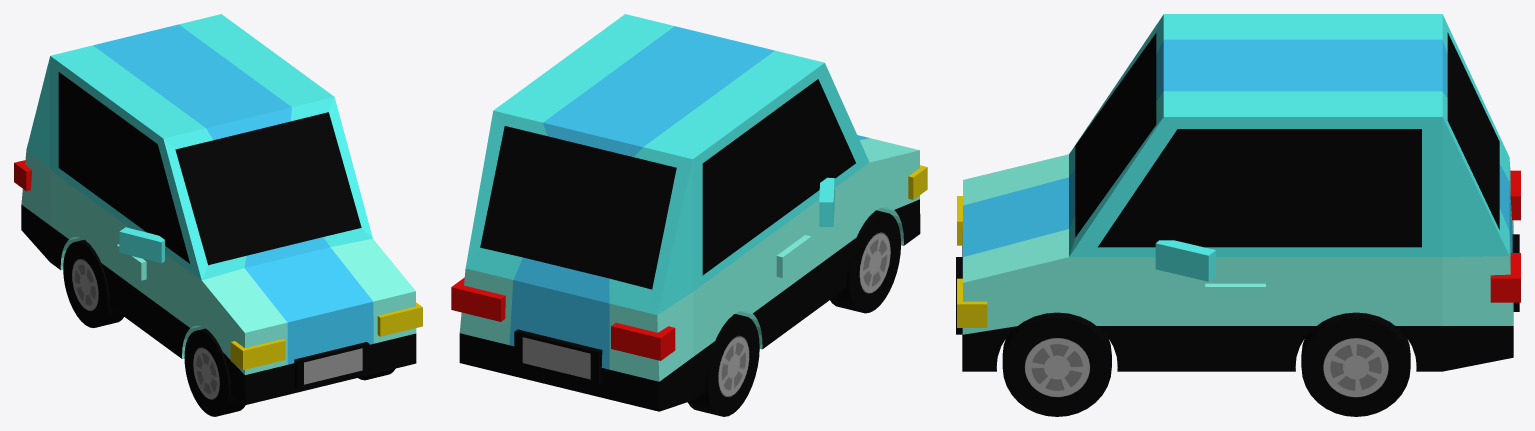
The model's file is Mobil_5_Biru_D.fbx.
3 views of the same model, side by side, from view 1: azimuth 30°, elevation 25°; view 2: azimuth 150°, elevation 25°; view 3: azimuth 270°, elevation 25° (orthographic). The views are drawn at different scales.
Visible parts, largest first — view 1: Mobil5; view 2: Mobil5; view 3: Mobil5.
Part boxes in pixels (left/top/right/bottom): Mobil5: left=14, top=14, right=422, bottom=416; Mobil5: left=451, top=14, right=927, bottom=416; Mobil5: left=956, top=14, right=1520, bottom=416.
Bounding box in the file's own units: 522 × 546 × 931.
Materials: 5 (3 with a texture image).
